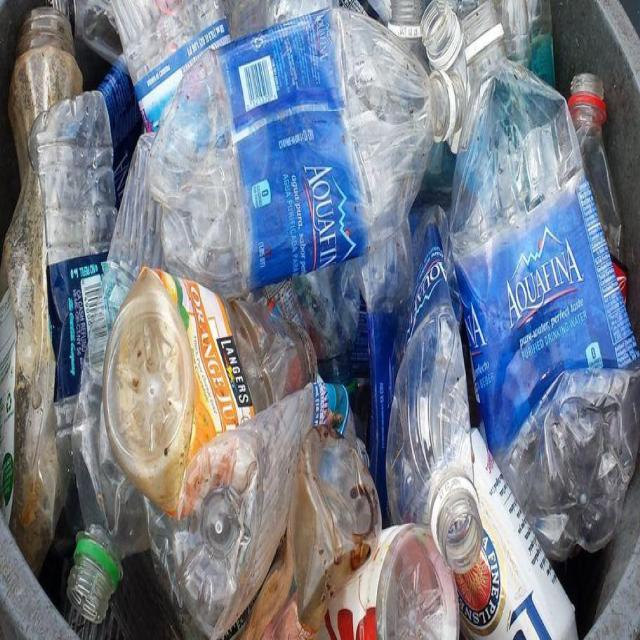heap: (1, 1, 640, 640)
plastic_bottle: (454, 10, 640, 549), (151, 12, 469, 285), (72, 128, 194, 629), (105, 264, 325, 503), (174, 378, 345, 637), (40, 84, 131, 559), (9, 2, 80, 564), (407, 210, 490, 570), (337, 523, 467, 640)
